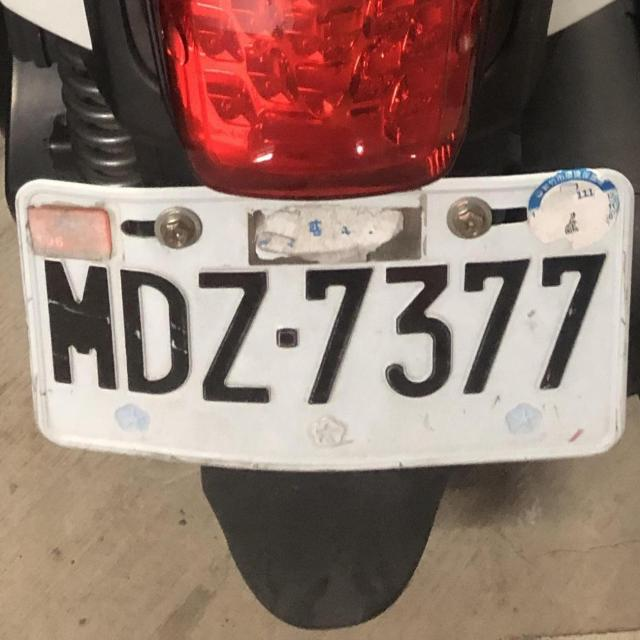W: (15, 166, 635, 477)
